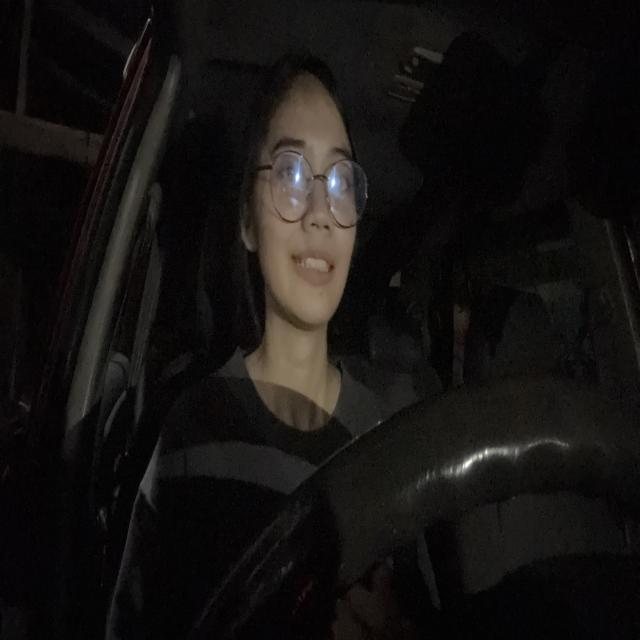open: (270, 136, 312, 200), (323, 141, 358, 210)
